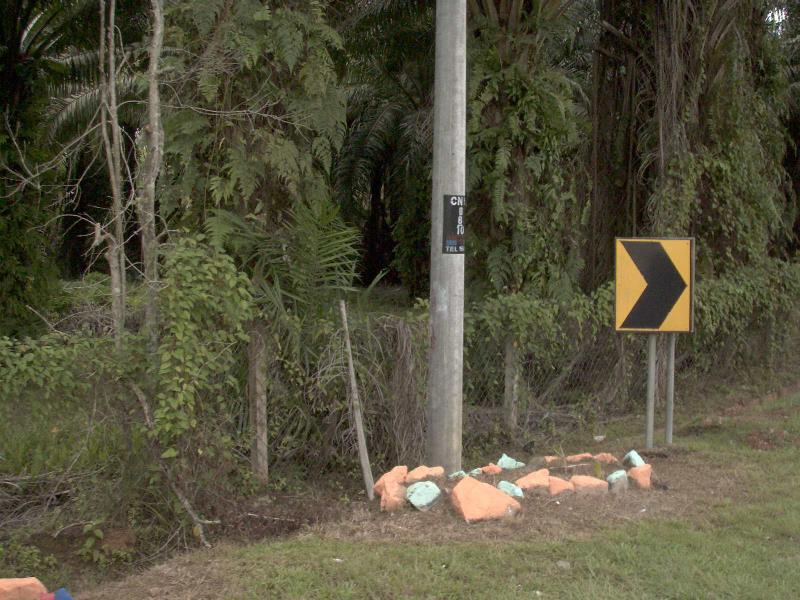traffic_sign: (604, 225, 705, 344)
